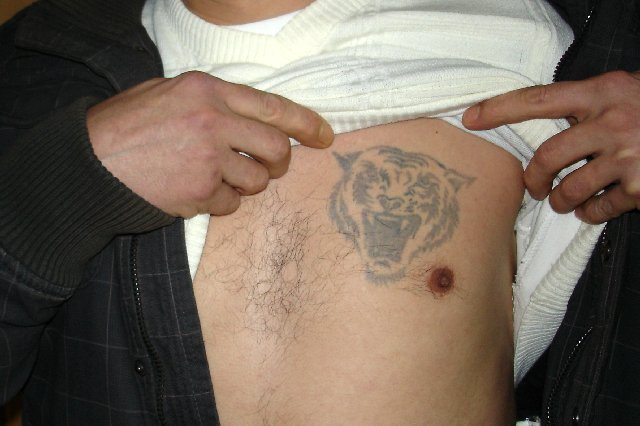tatu5_tigr: (329, 146, 483, 277)
